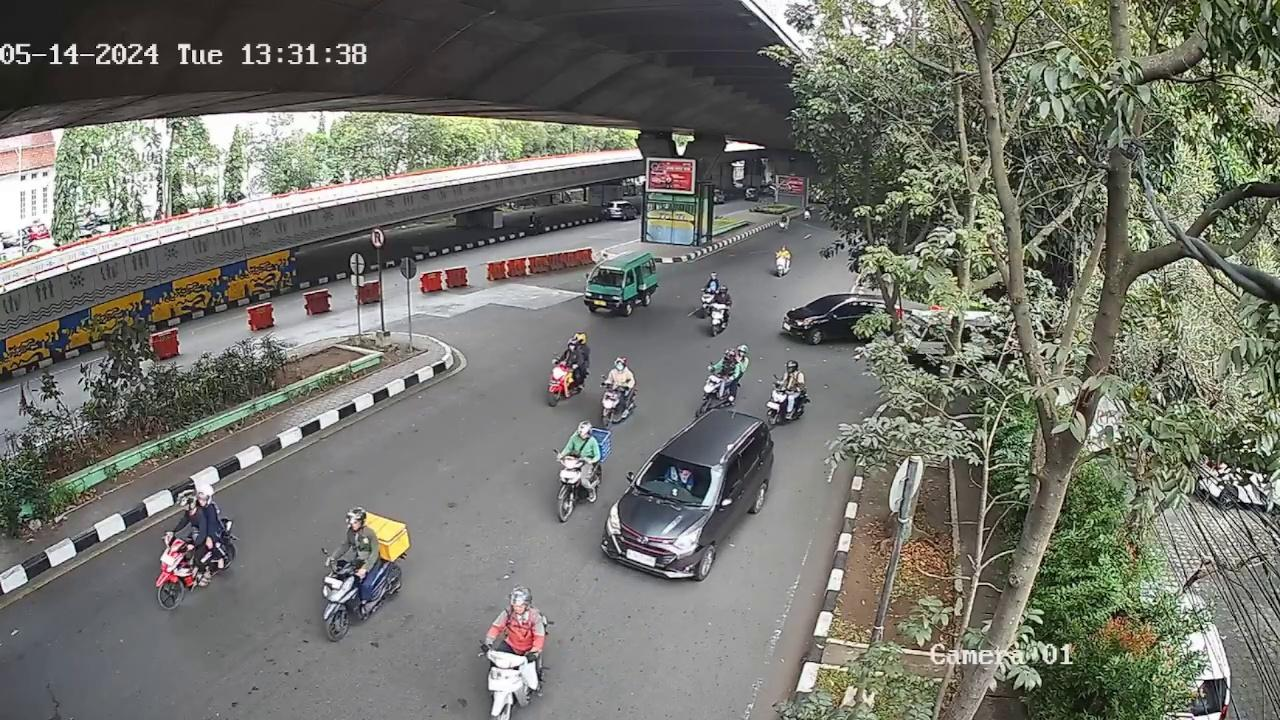pakai: (663, 466, 691, 492)
windshield: (630, 449, 719, 508), (589, 269, 630, 288)
